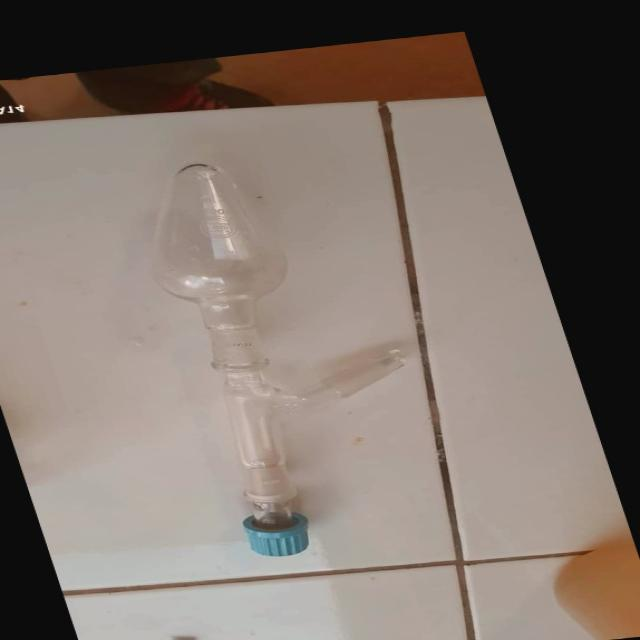Distillation: (46, 137, 489, 576)
